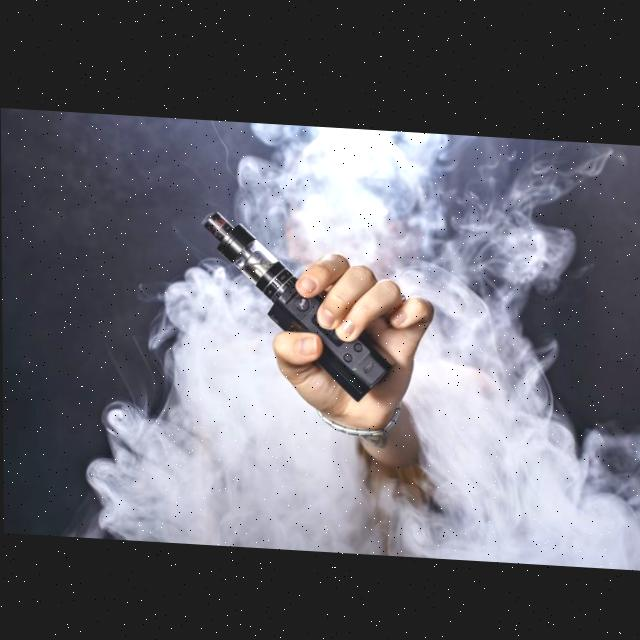vape: (202, 207, 391, 398)
